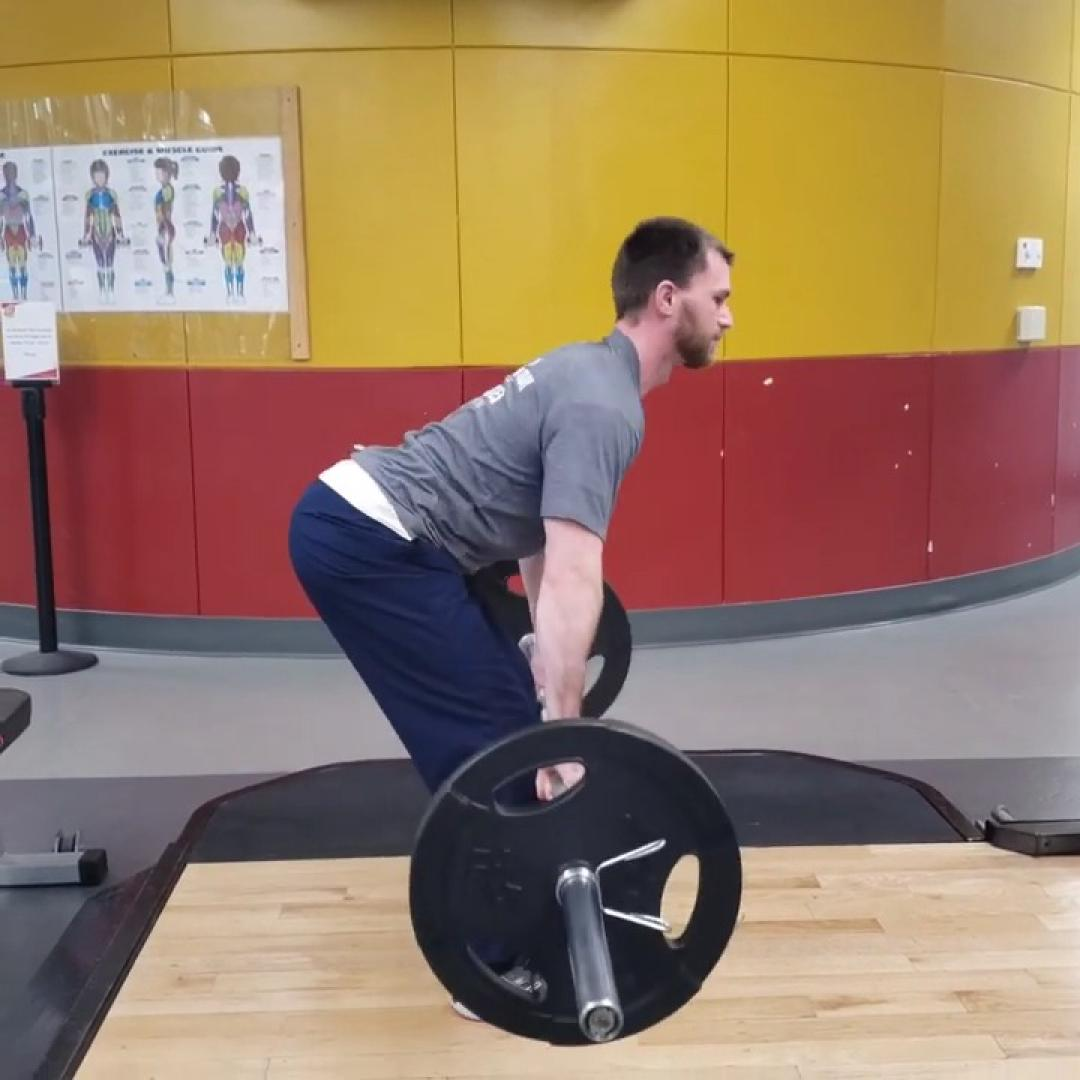Bar: (579, 997, 624, 1042)
Barbell: (408, 726, 741, 1046)
